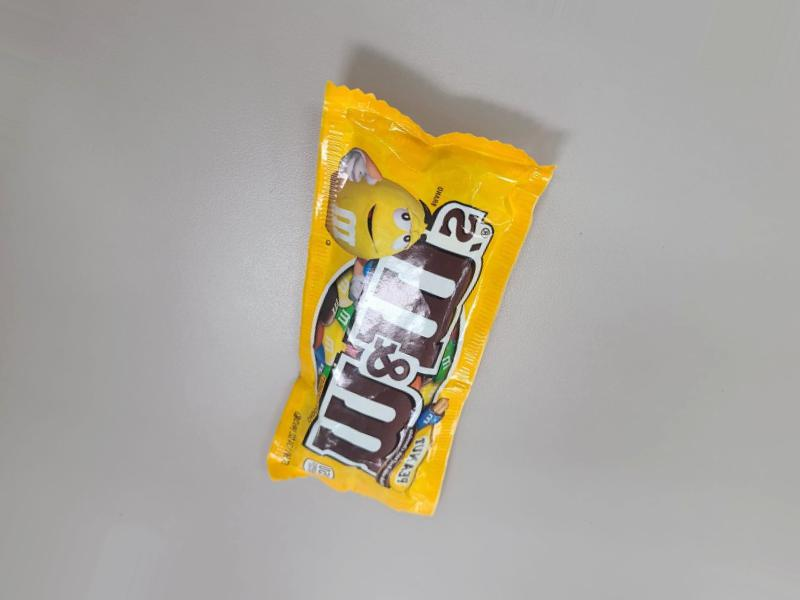m&m: (291, 98, 546, 490)
